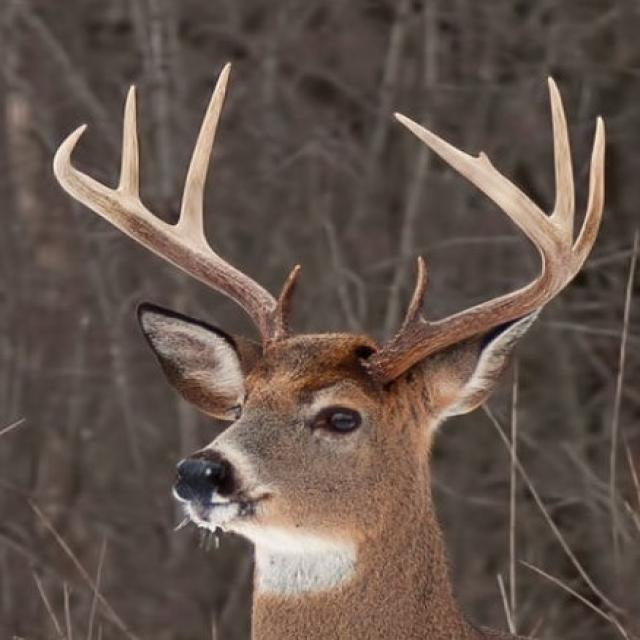L-F: (367, 111, 572, 385)
L-G1: (399, 254, 429, 333)
R-G1: (276, 264, 302, 324)
R-G2: (176, 62, 232, 239)
R-G3: (119, 85, 139, 196)
